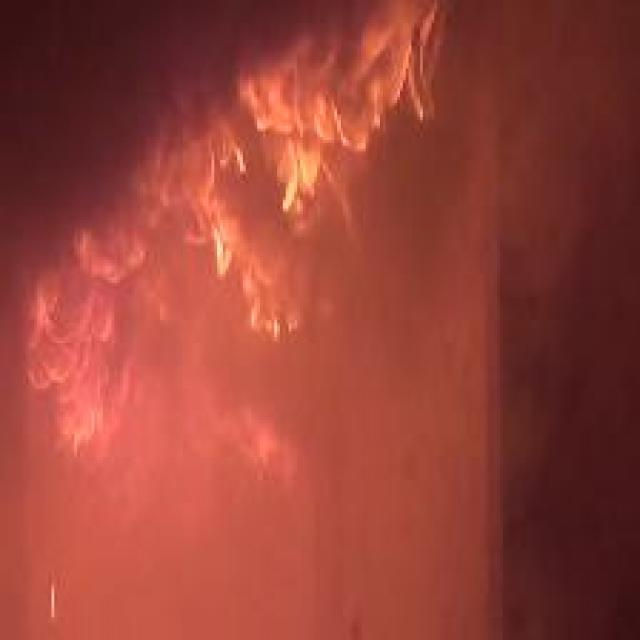Fire: (24, 0, 447, 474)
